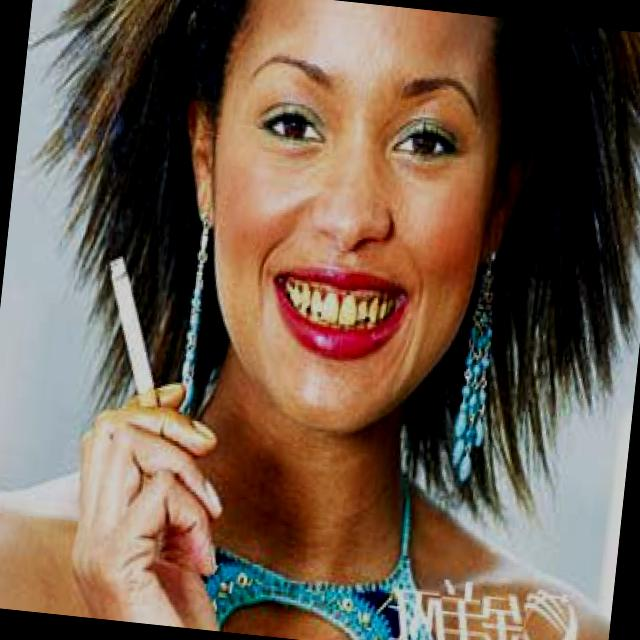smoke: (88, 210, 184, 466)
